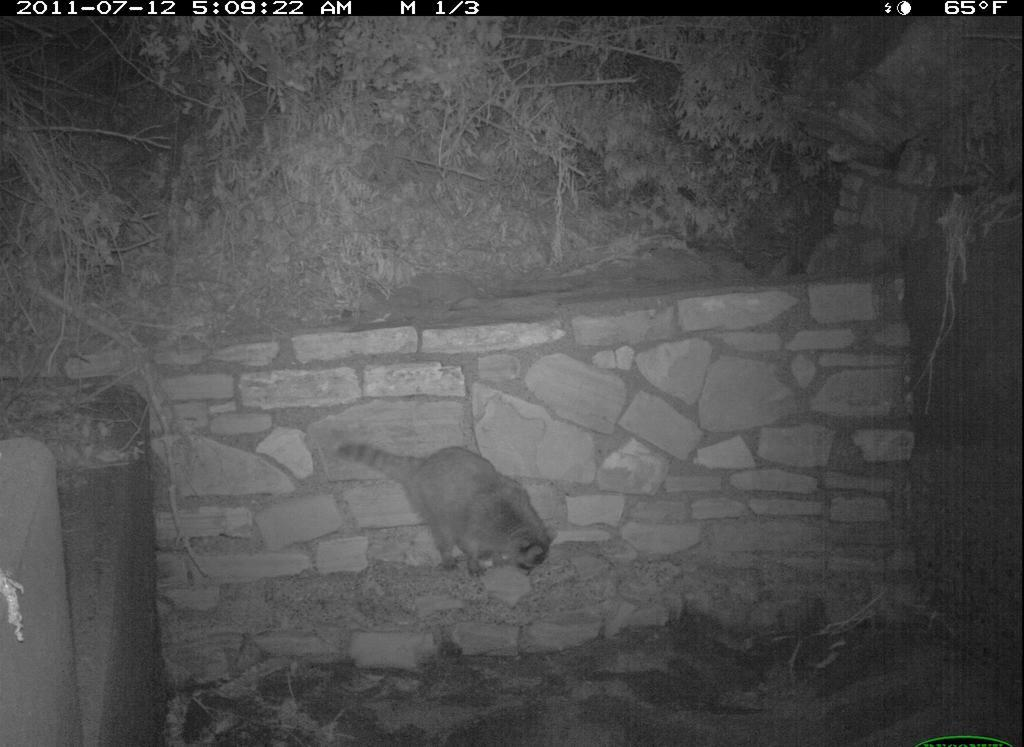raccoon: (310, 409, 588, 587)
